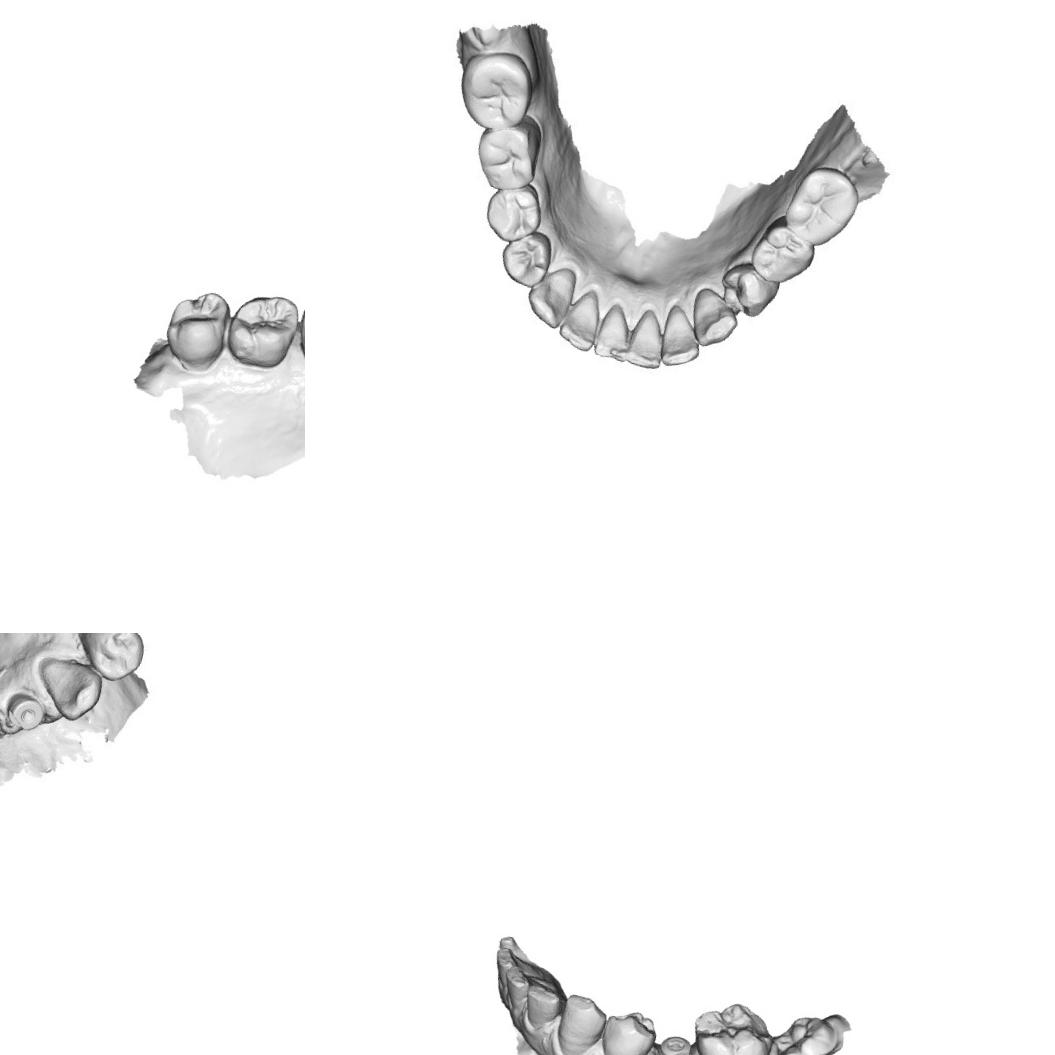canine: (27, 648, 108, 725), (520, 257, 582, 335), (547, 988, 613, 1055), (684, 284, 744, 352)
implant: (8, 694, 50, 738)
implant_minus: (650, 1025, 697, 1055)
incisor: (555, 280, 608, 355), (654, 306, 705, 371), (622, 308, 669, 372), (517, 979, 566, 1036), (592, 302, 634, 364), (497, 964, 538, 1027), (492, 946, 548, 987)
molar: (451, 41, 543, 136), (781, 161, 869, 253), (220, 284, 304, 374), (158, 282, 236, 374), (681, 991, 783, 1055), (466, 115, 544, 193), (748, 216, 818, 288)
premolar: (710, 254, 781, 321), (482, 180, 545, 243), (73, 633, 144, 684), (593, 1004, 661, 1055), (500, 229, 552, 287), (290, 293, 305, 373)
